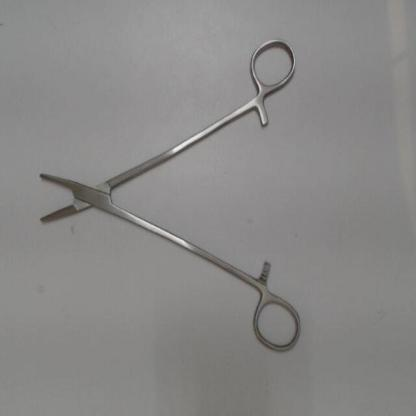8 Mayo Needle Holder: (29, 28, 310, 361)
